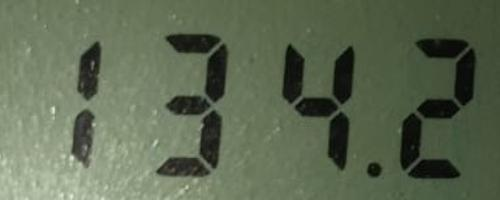.: (363, 158, 386, 181)
